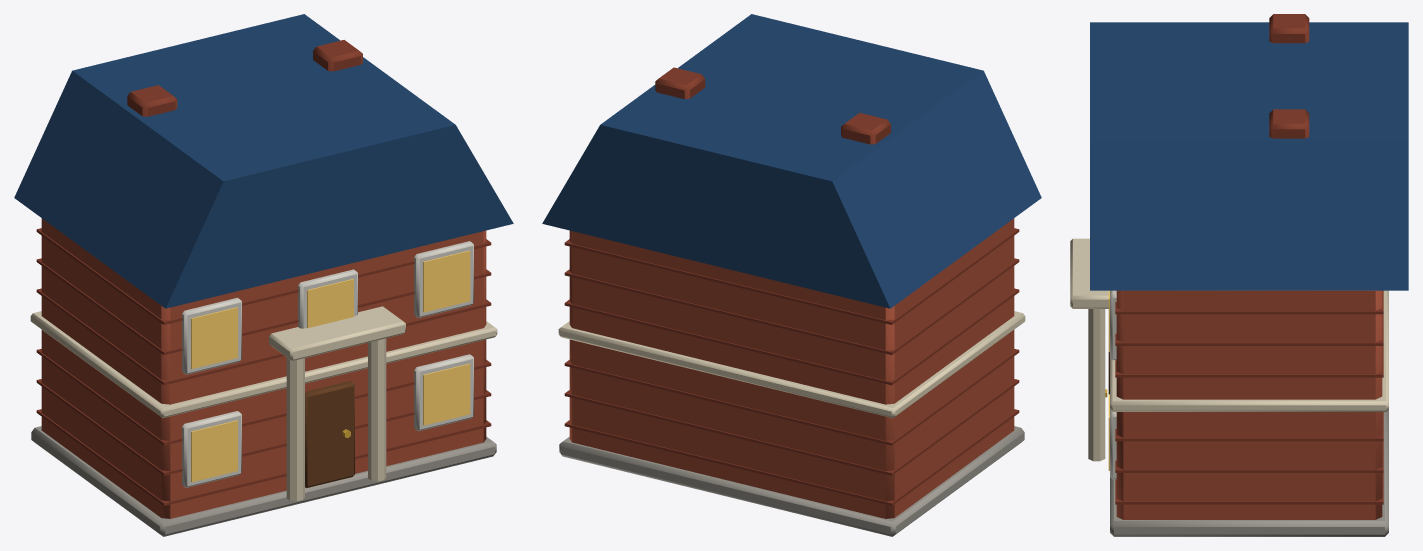
The model's file is 108_manoir.fbx.
3 views of the same model, side by side, from view 1: azimuth 30°, elevation 25°; view 2: azimuth 150°, elevation 25°; view 3: azimuth 270°, elevation 25° (orthographic). The views are drawn at different scales.
Parts seen in each view (by area): view 1: Toit, Murs, Fenetres, Porte; view 2: Murs, Toit; view 3: Toit, Murs.
Part boxes in pixels (<box>): Toit: <box>14,14,513,308</box>; Murs: <box>30,40,497,536</box>; Fenetres: <box>191,250,470,482</box>; Porte: <box>305,381,354,488</box>; Murs: <box>558,67,1025,536</box>; Toit: <box>542,14,1041,308</box>; Toit: <box>1090,22,1408,290</box>; Murs: <box>1070,14,1388,536</box>.
Size of the model in its own units: 0.84 by 0.84 by 0.672.
1 material, 1 textured.
